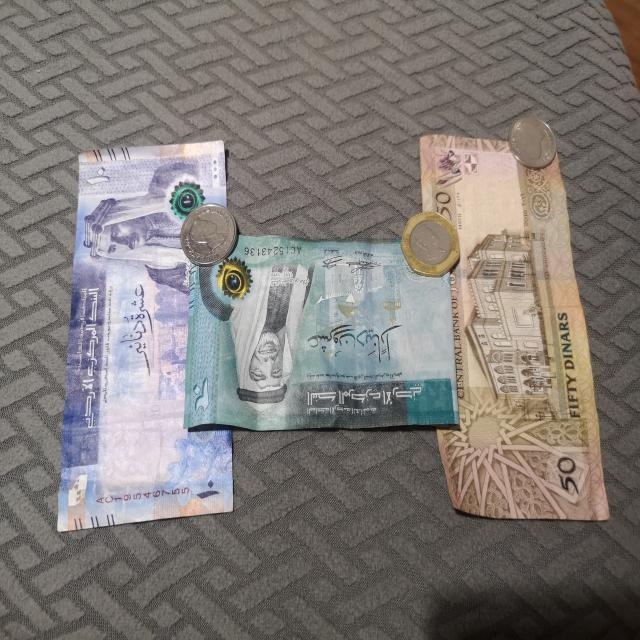10-coins: (180, 202, 237, 266)
10-dinar: (58, 140, 234, 532)
20-dinar: (183, 234, 460, 430)
5-coins: (508, 116, 556, 170)
50-coins: (401, 211, 459, 278)
50-dinar: (419, 135, 610, 520)
